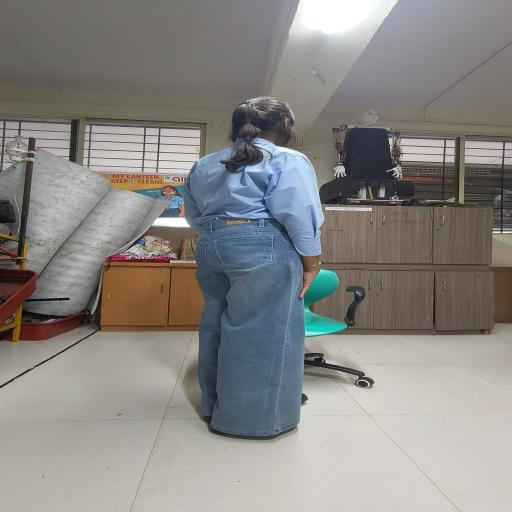survivor: (181, 96, 325, 440)
